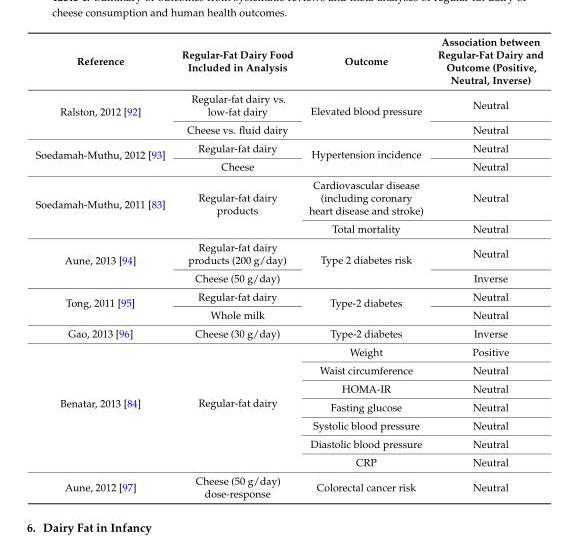table: (34, 35, 542, 499)
table column: (34, 35, 172, 499), (300, 35, 429, 499), (172, 35, 300, 499), (429, 35, 542, 499)
table column header: (34, 35, 542, 88)
table row: (34, 35, 542, 88), (34, 175, 542, 219), (34, 88, 542, 120), (34, 237, 542, 268), (34, 471, 542, 499), (34, 156, 542, 175), (34, 268, 542, 287), (34, 323, 542, 342), (34, 360, 542, 379), (34, 415, 542, 434), (34, 452, 542, 471), (34, 120, 542, 138), (34, 138, 542, 156), (34, 219, 542, 237), (34, 287, 542, 305), (34, 305, 542, 323), (34, 342, 542, 360), (34, 379, 542, 397), (34, 397, 542, 415), (34, 434, 542, 452)
table spanning cell: (34, 342, 172, 471), (172, 342, 300, 471), (34, 175, 172, 237), (172, 175, 300, 237), (34, 88, 172, 138), (34, 237, 172, 287), (300, 88, 429, 138), (300, 237, 429, 287), (34, 138, 172, 175), (34, 287, 172, 323), (300, 138, 429, 175), (300, 287, 429, 323)
